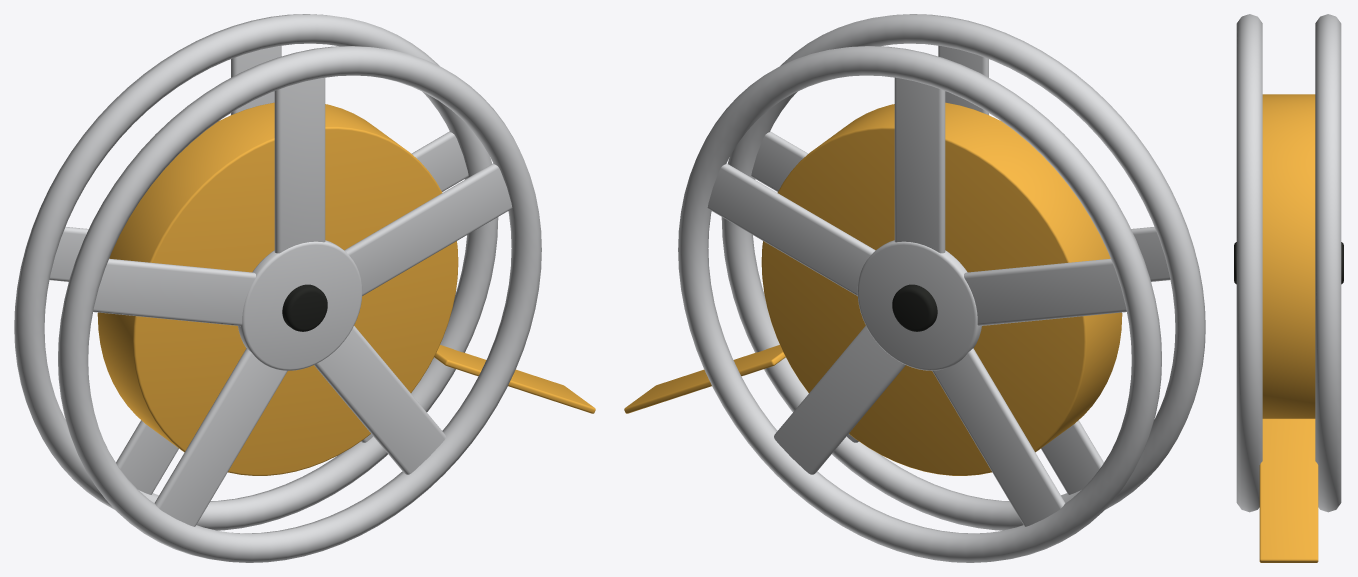
The model's file is life-reel.glb.
3 renders of one model, left to right at view 1: azimuth 30°, elevation 25°; view 2: azimuth 150°, elevation 25°; view 3: azimuth 270°, elevation 25°, orthographic. The views are drawn at different scales.
Parts seen in each view (by area): view 1: Film, Rim, Rim.001, Hub, Spoke.002, Spoke.004, Spoke, Spoke.001, Spoke.003, Spoke.007, Strip, Spoke.009 (+3 smaller); view 2: Film, Rim.001, Rim, Hub.001, Spoke.007, Spoke.009, Spoke.005, Spoke.006, Spoke.008, Spoke.002, Strip, Spoke.004 (+3 smaller); view 3: Film, Rim, Rim.001, Strip, Axle.
Part boxes in pixels (<box>): Film: <box>97,102,458,475</box>; Rim: <box>58,46,541,562</box>; Rim.001: <box>14,14,498,530</box>; Hub: <box>238,240,362,370</box>; Spoke.002: <box>154,348,287,526</box>; Spoke.004: <box>344,163,512,295</box>; Spoke: <box>274,77,325,253</box>; Spoke.001: <box>93,258,255,326</box>; Spoke.003: <box>314,326,445,474</box>; Spoke.007: <box>116,420,178,494</box>; Strip: <box>434,345,595,413</box>; Spoke.009: <box>411,131,468,191</box>; Film: <box>761,102,1122,475</box>; Rim.001: <box>678,46,1161,562</box>; Rim: <box>721,14,1205,530</box>; Hub.001: <box>857,240,981,370</box>; Spoke.007: <box>932,348,1065,526</box>; Spoke.009: <box>707,163,875,295</box>; Spoke.005: <box>894,77,945,253</box>; Spoke.006: <box>964,258,1126,326</box>; Spoke.008: <box>774,326,905,474</box>; Spoke.002: <box>1041,420,1103,494</box>; Strip: <box>624,345,785,413</box>; Spoke.004: <box>751,131,808,191</box>; Film: <box>1262,94,1315,418</box>; Rim: <box>1236,14,1262,512</box>; Rim.001: <box>1315,14,1341,512</box>; Strip: <box>1259,418,1318,562</box>; Axle: <box>1234,242,1343,284</box>.
Bounding box in the file's own units: 2.87 × 2.54 × 0.56.
